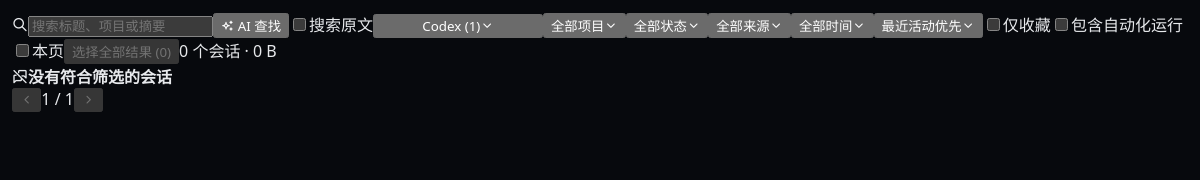
Test: project filter › only offers projects of the chosen agent and clears a project that no longer fits
The width and height of the screenshot is (1200, 180).
Click the button "全部项目".
click(584, 26)  # box top-left (543, 13), bottom-right (626, 38)
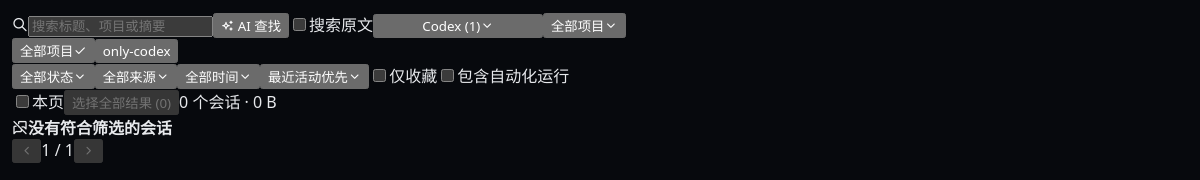
Check: the text "only-codex" is shown, box top-left (103, 42), bottom-right (170, 60)
